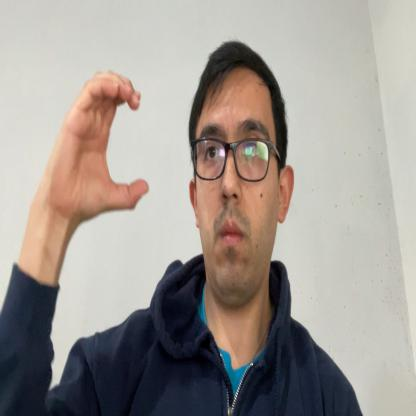C: (52, 69, 148, 211)
